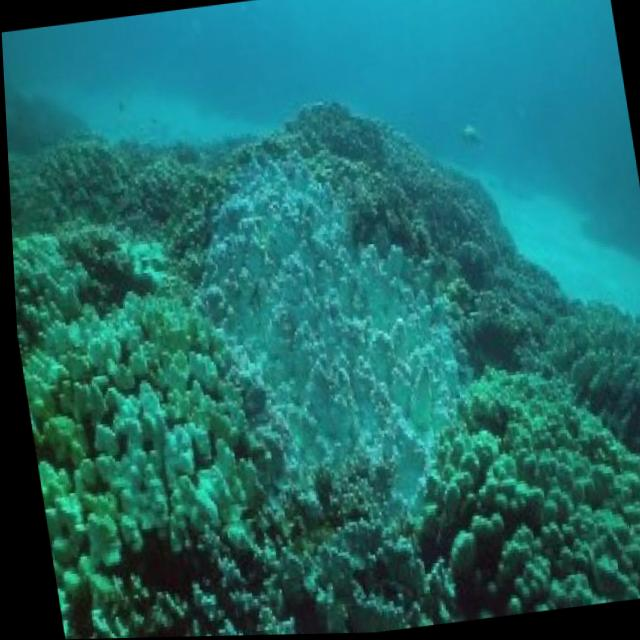Bleached Coral: (139, 130, 481, 549)
